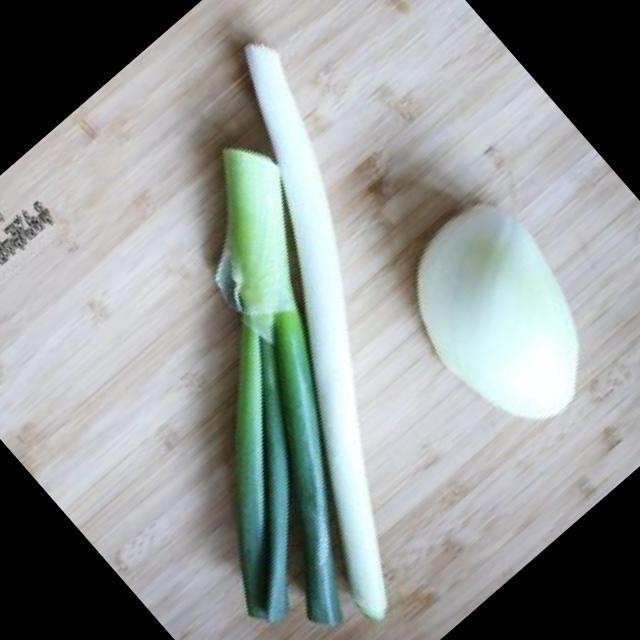Onion: (415, 205, 580, 424)
